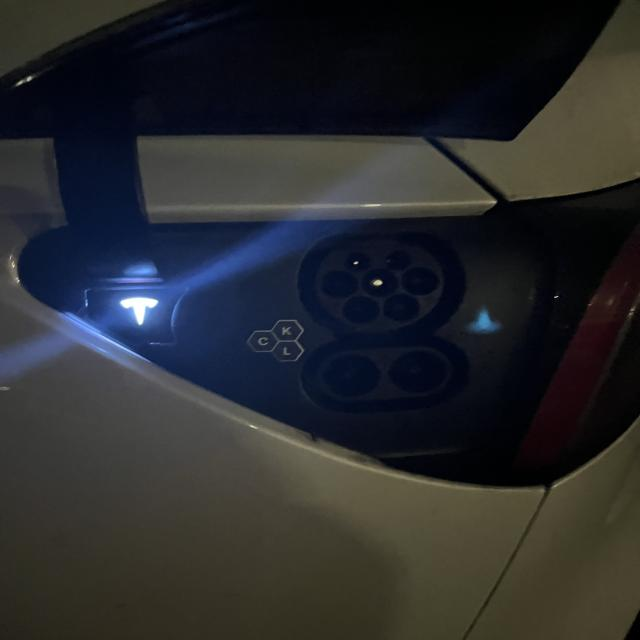inlet: (314, 243, 444, 331)
inlet-above-left: (344, 251, 372, 272)
inlet-above-right: (388, 250, 413, 268)
inlet-below-left: (343, 296, 380, 324)
inlet-below-right: (383, 294, 419, 321)
inlet-circle: (362, 269, 398, 297)
inlet-circle-left: (322, 270, 358, 297)
inlet-circle-right: (401, 267, 440, 296)
inlet-minus: (390, 350, 447, 393)
inlet-plus: (323, 356, 380, 396)
